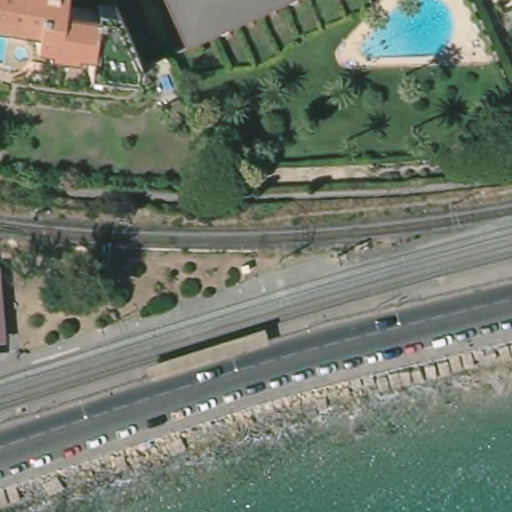pool: (360, 3, 462, 59), (1, 35, 14, 77), (12, 47, 37, 67), (153, 77, 178, 95)
